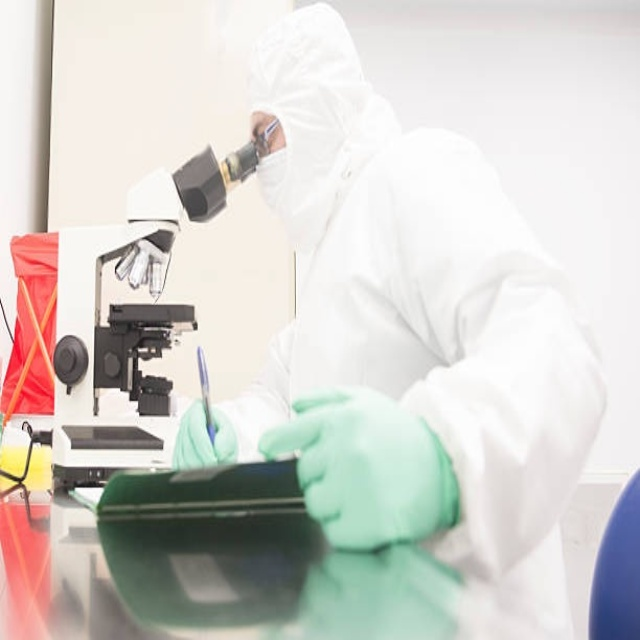Gafas: (255, 117, 282, 158)
Guantes: (261, 384, 455, 551), (171, 398, 238, 470)
Mascara: (256, 132, 308, 237)
